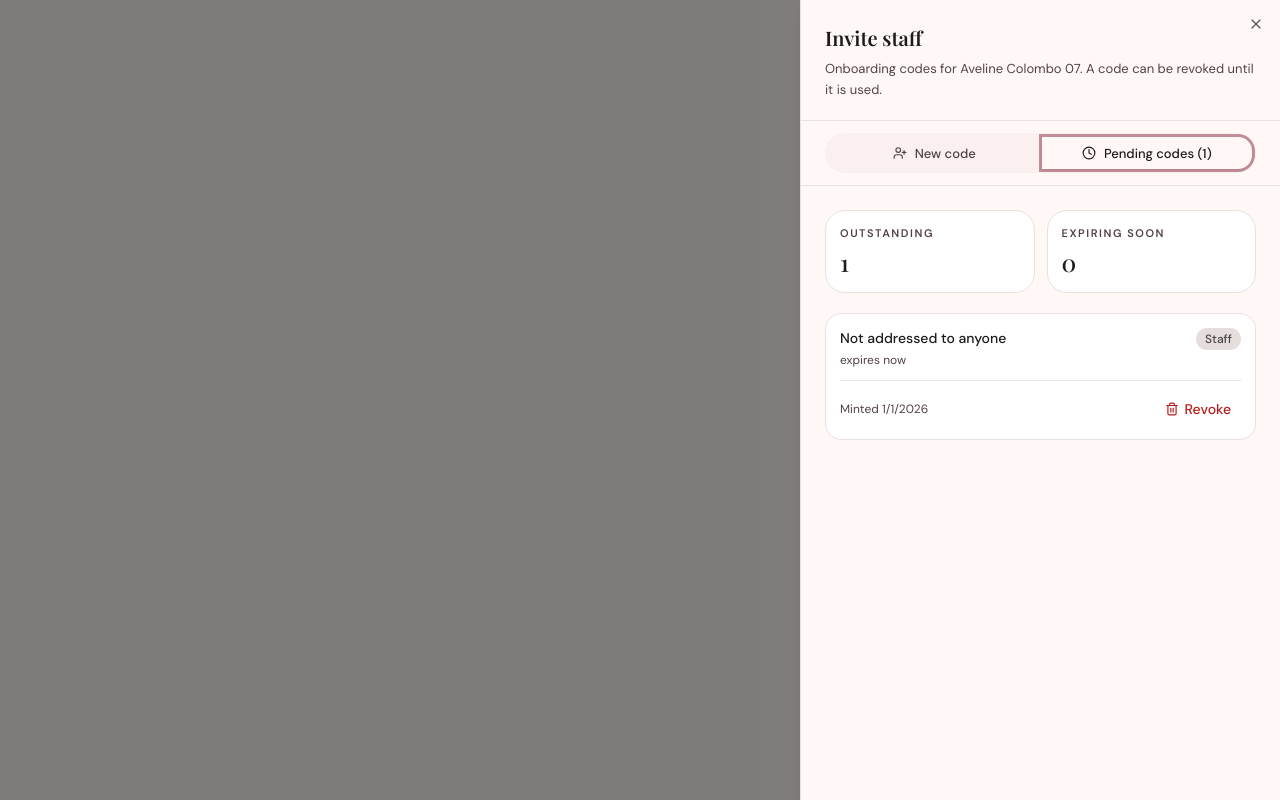
it: InvitationDrawer › opens on the pending codes when asked, with a revoke per code
This screenshot has width=1280, height=800.
Expected: the text "Not addressed to anyone" is shown, 840,328 -> 1006,348
Click the button with aria-label "revoke code" at (1198, 409), box 1154,393 -> 1241,425
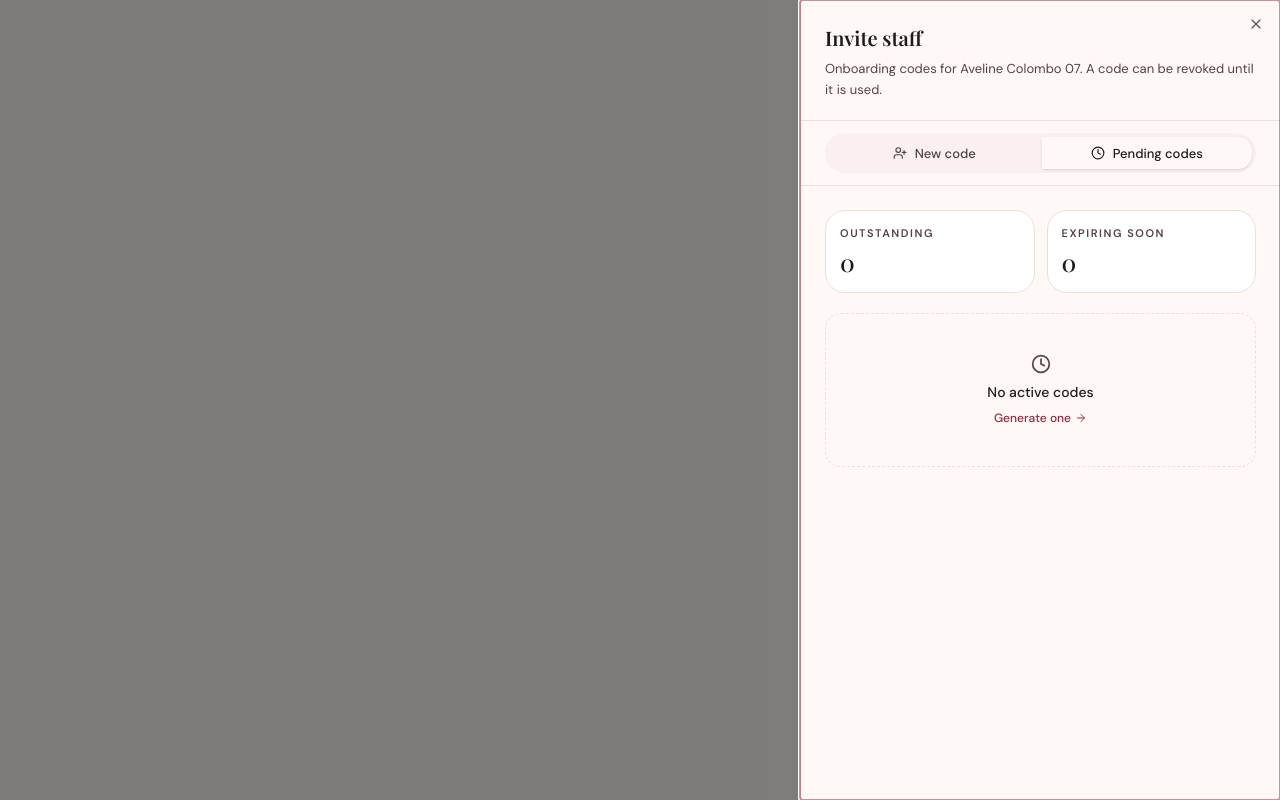
Result: the text "Not addressed to anyone" is gone
